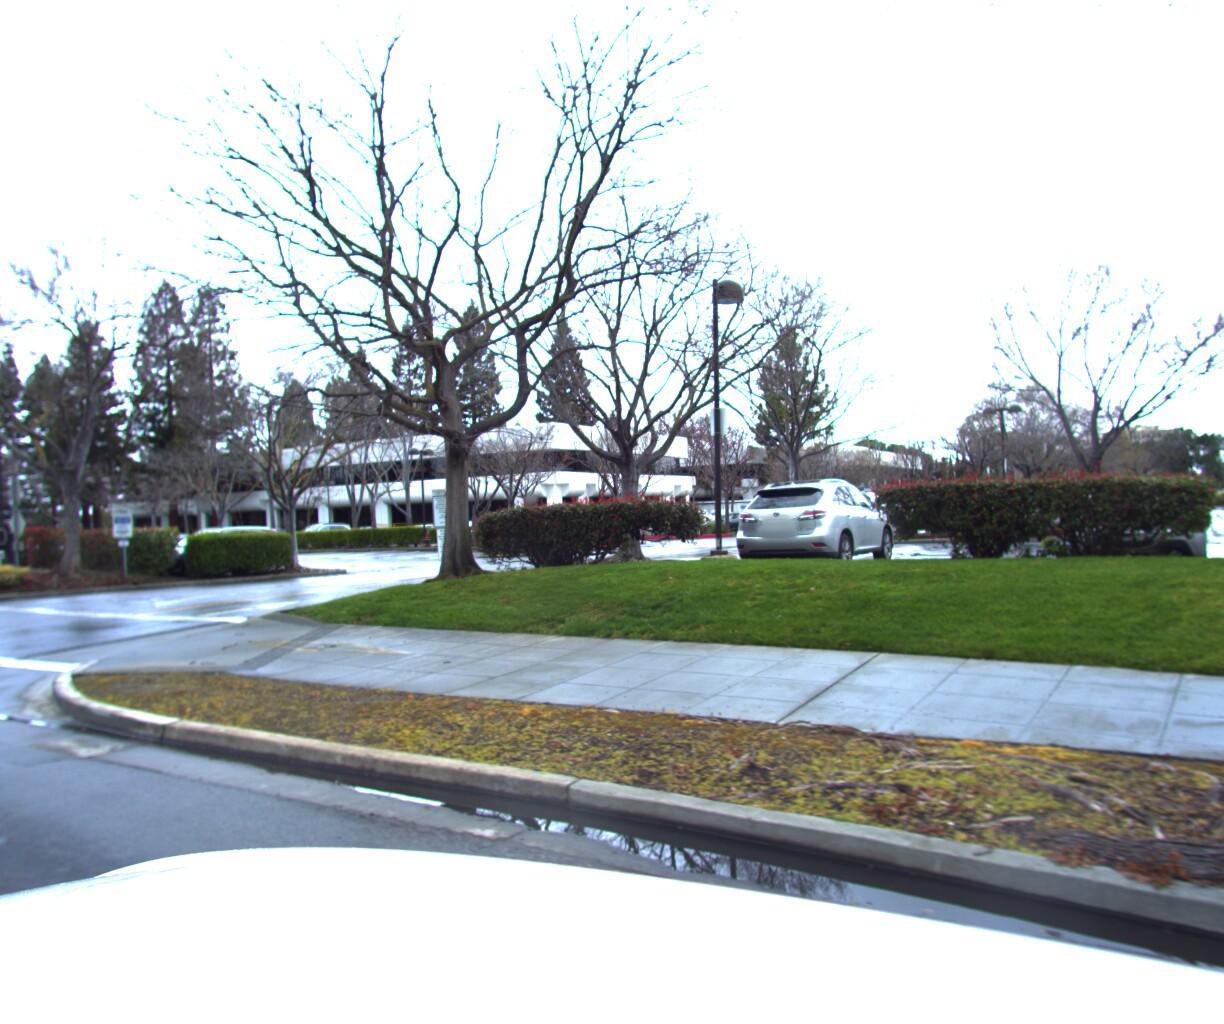car: (728, 472, 900, 583), (786, 482, 930, 544)
